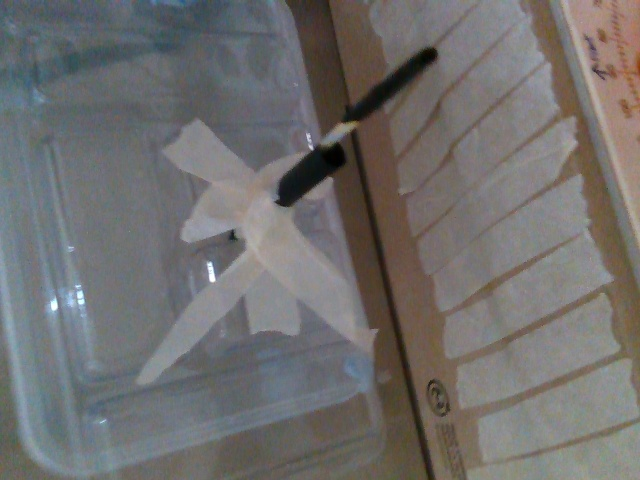test_strip: (318, 43, 438, 149)
